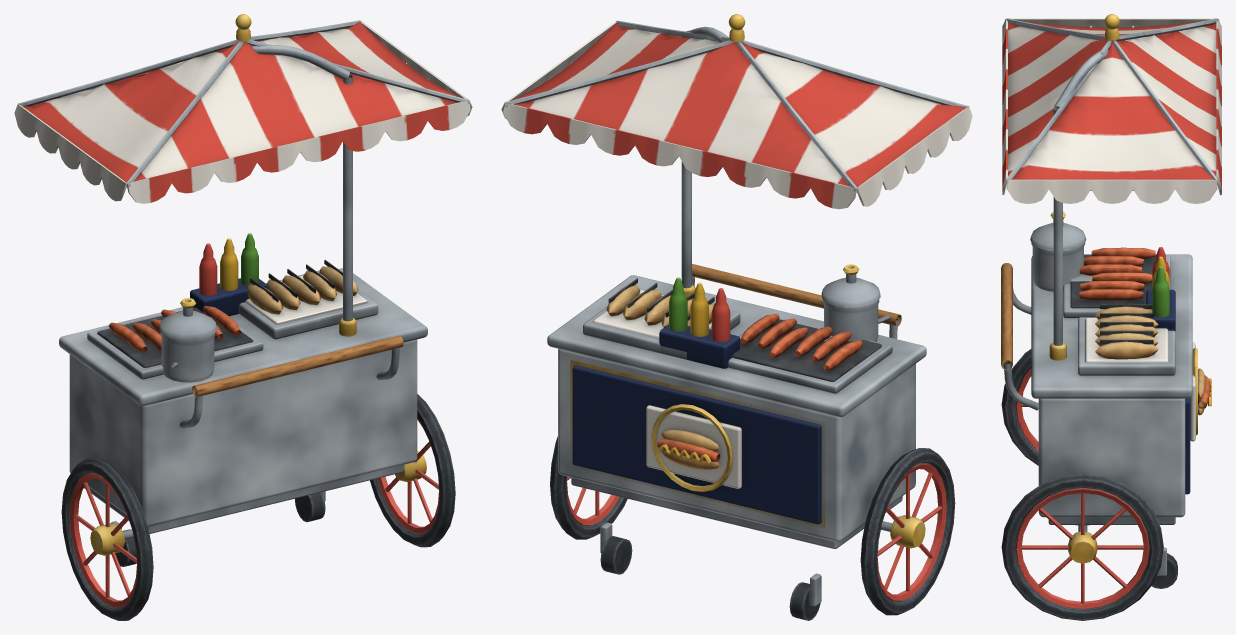
File: hotdog-cart.fbx
3 views of the same model, side by side, from view 1: azimuth 30°, elevation 25°; view 2: azimuth 150°, elevation 25°; view 3: azimuth 270°, elevation 25° (orthographic). The views are drawn at different scales.
Parts seen in each view (by area): view 1: Body; view 2: Body; view 3: Body.
Boxes of the visible parts, x1=… form: Body: x1=14, y1=14, x2=472, y2=620; Body: x1=501, y1=14, x2=972, y2=620; Body: x1=1001, y1=14, x2=1221, y2=620.
Bounding box in the file's own units: 1.6 × 2.41 × 0.903.
